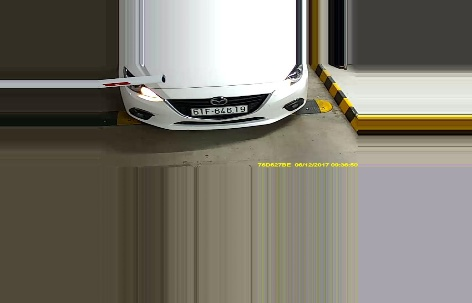plate: (191, 103, 249, 116)
